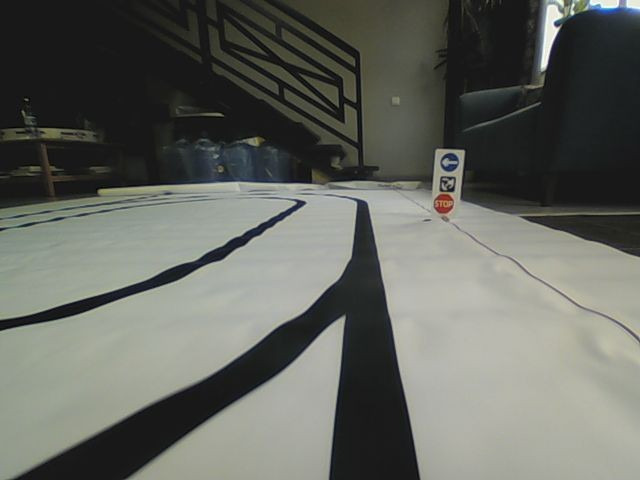Stop: (433, 193, 455, 214)
